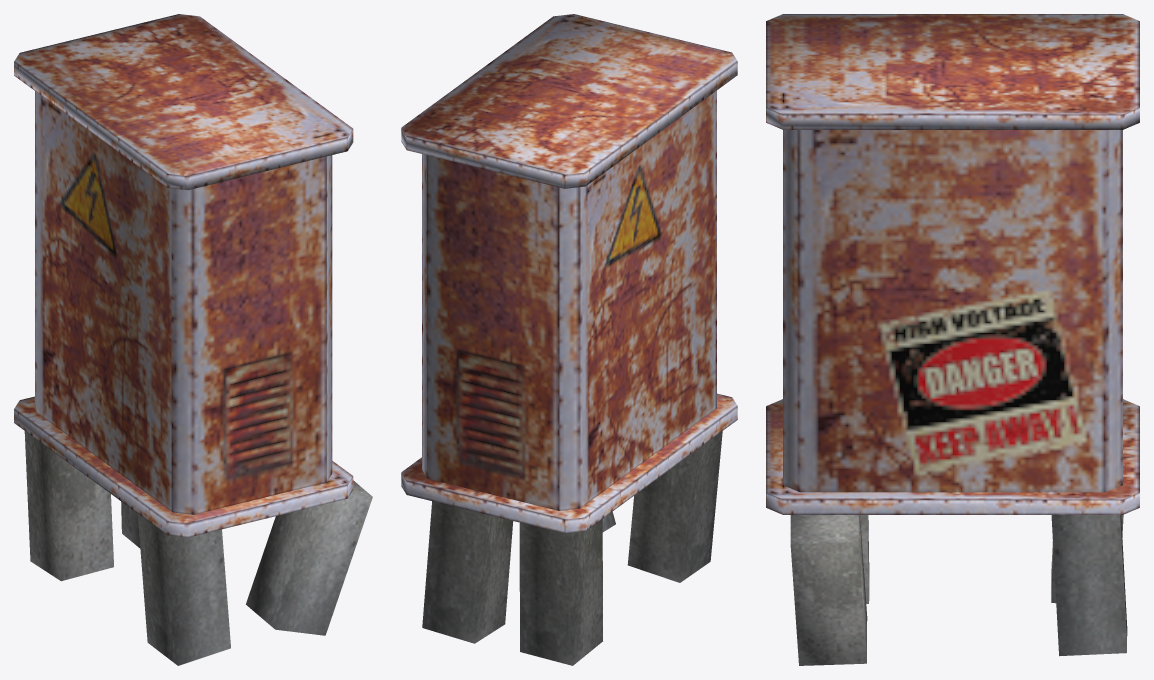
Rendered from Electric00.obj.
The picture shows the model from 3 angles, left to right: view 1: azimuth 30°, elevation 25°; view 2: azimuth 150°, elevation 25°; view 3: azimuth 270°, elevation 25°; orthographic projection. The views are drawn at different scales.
Parts seen in each view (by area): view 1: Electric00; view 2: Electric00; view 3: Electric00.
Boxes of the visible parts, bbox=[...] form: Electric00: bbox=[14, 14, 372, 665]; Electric00: bbox=[401, 14, 737, 665]; Electric00: bbox=[766, 14, 1139, 665].
Size of the model in its own units: 1.58 by 3.65 by 2.2.
Materials: 1 (1 with a texture image).
